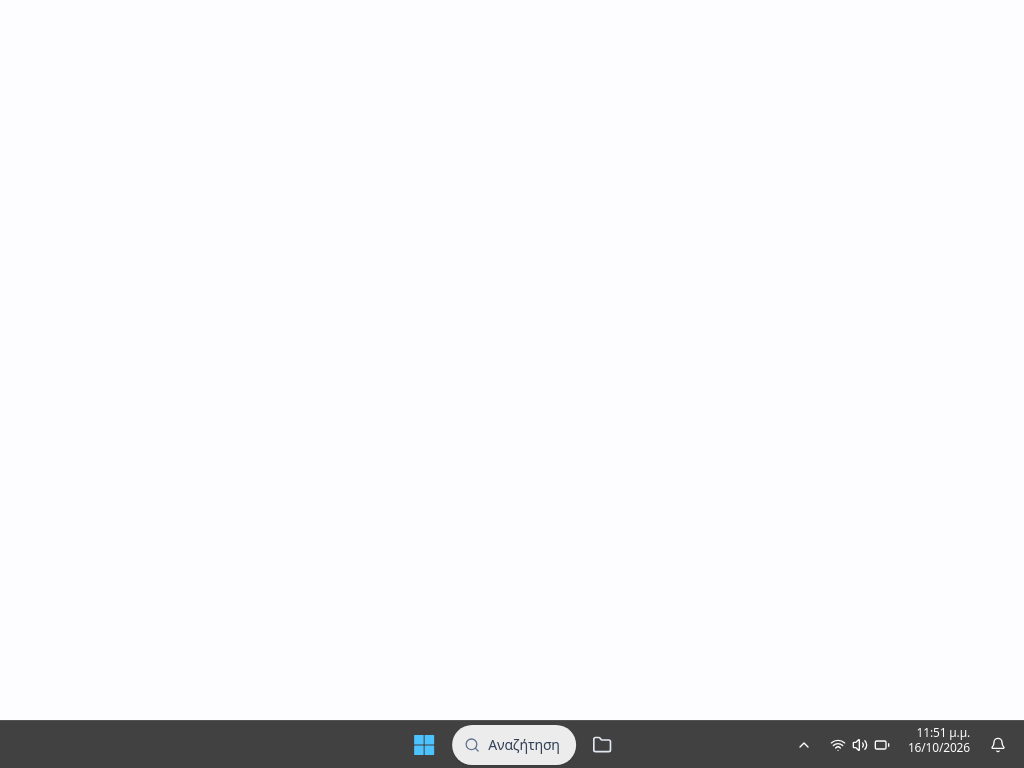
Test: Windows Quick Settings ↔ tray ↔ desktop › the clock opens a calendar with today highlighted
Click the button named "Ώρα και ημερομηνία": coordinates (939, 744) [900,724,978,764]
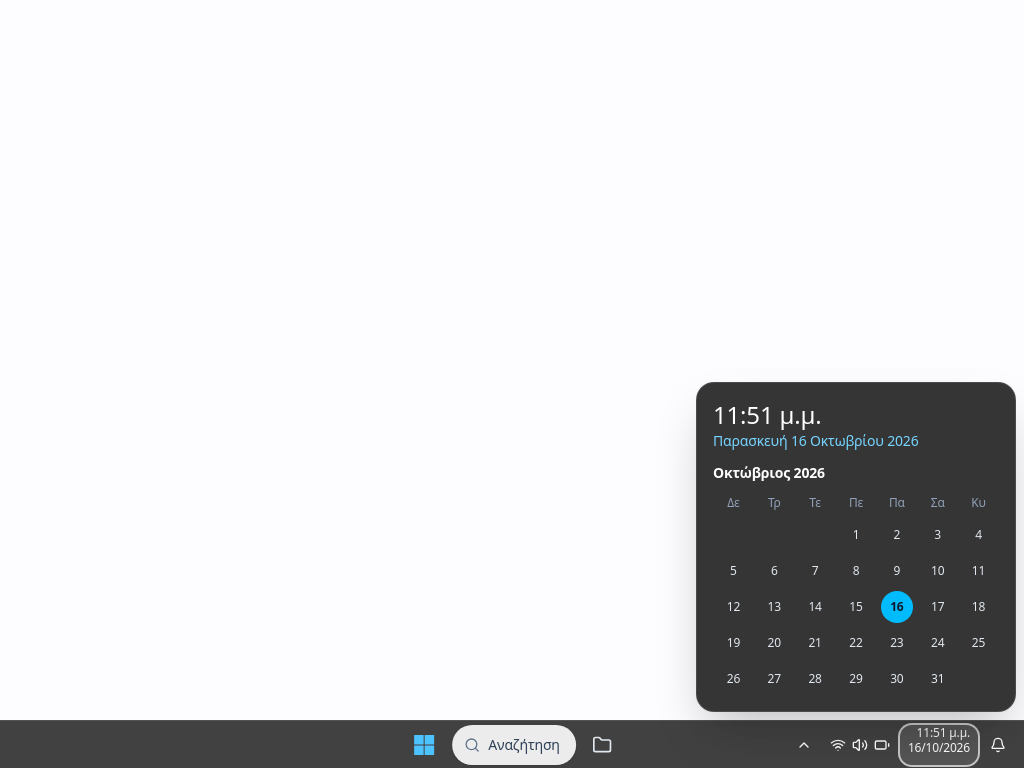
Expected: the dialog with test id "calendar-flyout" is shown, [696,382,1016,712]
Expected: the text "16" is shown, [881,591,913,623]
